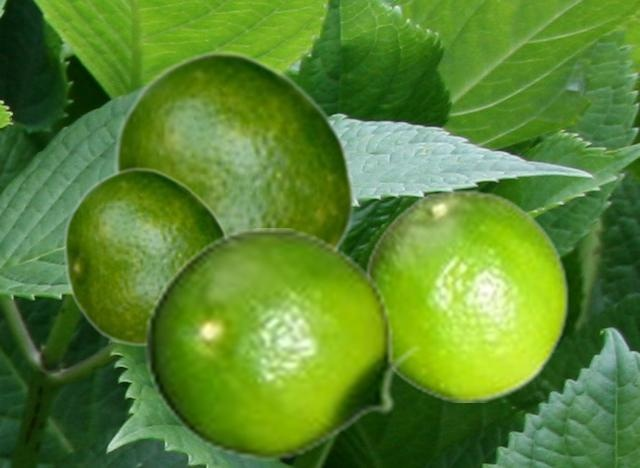calamansi: (143, 228, 422, 460), (112, 49, 356, 248), (364, 188, 569, 401), (62, 166, 229, 346)
